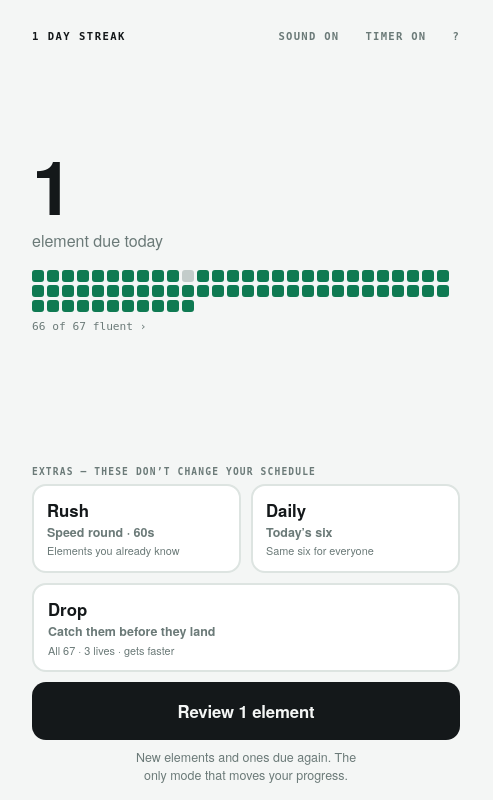
a full review session › reveals the answer and its mnemonic after a miss
This screenshot has width=493, height=800.
Click the button "Review 1 element" at (246, 711), box [32,682,460,740]
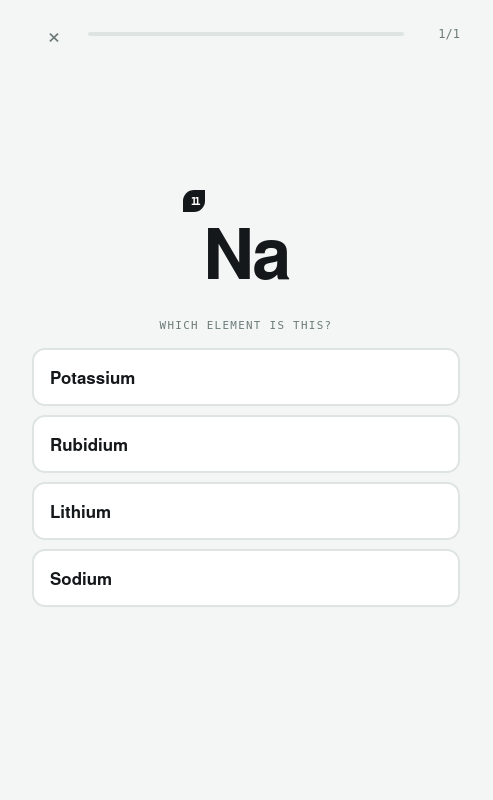
Click the button "Potassium" at (93, 377), box [32,348,460,406]
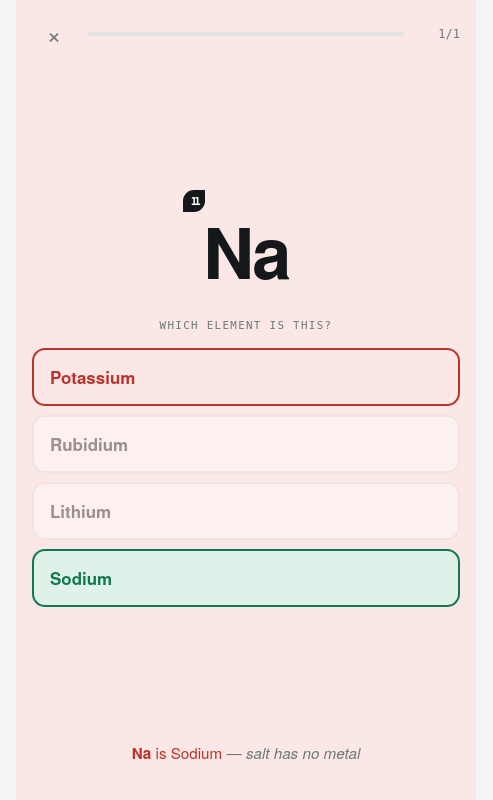
expect the text "Na is Sodium — salt has no metal" is shown: met, box [132,742,360,764]
expect the text "— salt has no metal" is shown: met, box [222,742,360,764]
